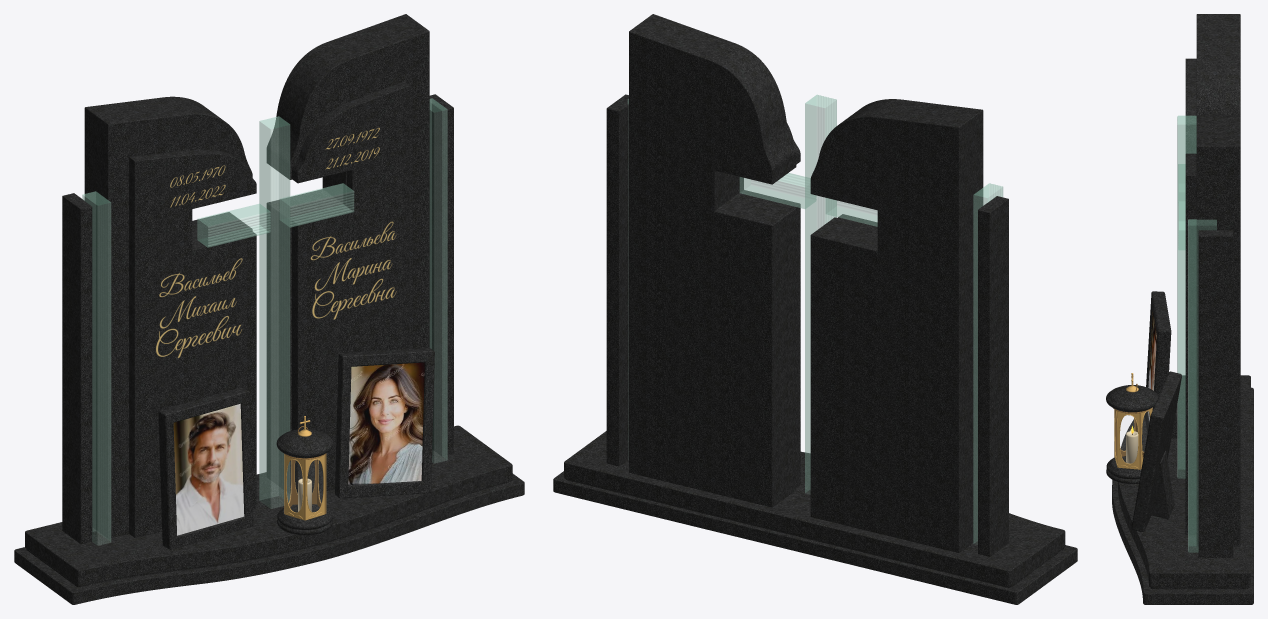
Rendered from classic.glb.
The picture shows the model from 3 angles, left to right: view 1: azimuth 30°, elevation 25°; view 2: azimuth 150°, elevation 25°; view 3: azimuth 270°, elevation 25°; orthographic projection. The views are drawn at different scales.
Parts seen in each view (by area): view 1: Memorial, Cross • continuous vertical reed (asset), Glass L • outside fluted fin (asset), Glass R • outside fluted fin (asset), Cross R • horizontal reed (asset), Cross L • horizontal reed (asset), Config_Label_R (asset), Config_Label_L (asset); view 2: Memorial, Cross • continuous vertical reed (asset), Glass L • outside fluted fin (asset), Cross R • horizontal reed (asset), Cross L • horizontal reed (asset); view 3: Memorial, Glass R • outside fluted fin (asset), Cross • continuous vertical reed (asset), Cross R • horizontal reed (asset), Cross L • horizontal reed (asset).
Boxes of the visible parts, left/top/right/bottom form: Memorial: left=14, top=14, right=524, bottom=604; Cross • continuous vertical reed (asset): left=259, top=116, right=290, bottom=508; Glass L • outside fluted fin (asset): left=82, top=191, right=111, bottom=545; Glass R • outside fluted fin (asset): left=429, top=98, right=447, bottom=463; Cross R • horizontal reed (asset): left=280, top=183, right=354, bottom=227; Cross L • horizontal reed (asset): left=197, top=203, right=270, bottom=247; Config_Label_R (asset): left=310, top=221, right=396, bottom=319; Config_Label_L (asset): left=156, top=258, right=242, bottom=357; Memorial: left=553, top=14, right=1077, bottom=604; Cross • continuous vertical reed (asset): left=805, top=94, right=836, bottom=494; Glass L • outside fluted fin (asset): left=973, top=183, right=1003, bottom=544; Cross R • horizontal reed (asset): left=739, top=173, right=816, bottom=208; Cross L • horizontal reed (asset): left=825, top=198, right=877, bottom=226; Memorial: left=1106, top=14, right=1253, bottom=604; Glass R • outside fluted fin (asset): left=1188, top=219, right=1216, bottom=552; Cross • continuous vertical reed (asset): left=1177, top=115, right=1196, bottom=478; Cross R • horizontal reed (asset): left=1178, top=201, right=1185, bottom=250; Cross L • horizontal reed (asset): left=1178, top=164, right=1185, bottom=200.
Bounding box in the file's own units: 1.65 × 1.6 × 0.5.
Materials: 17 (8 with a texture image).
